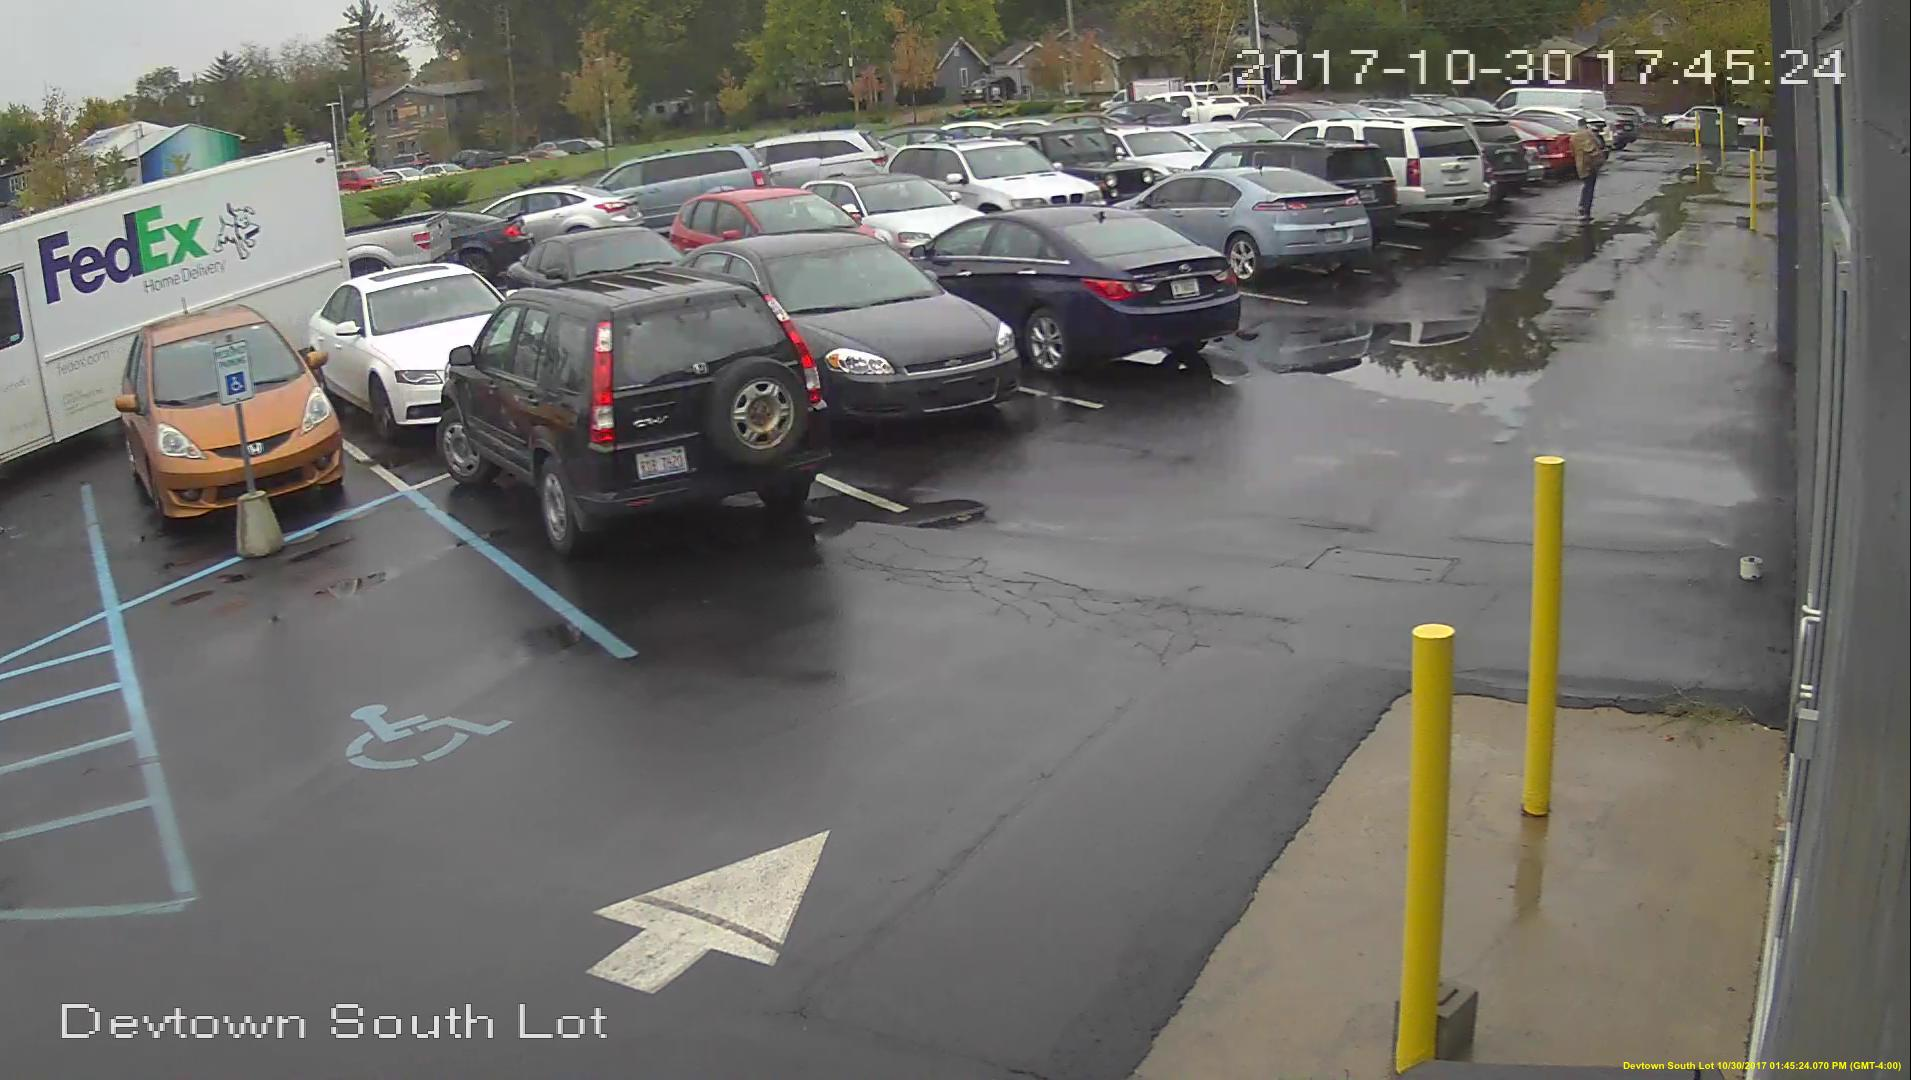fedex_truck: (1, 175, 325, 402)
